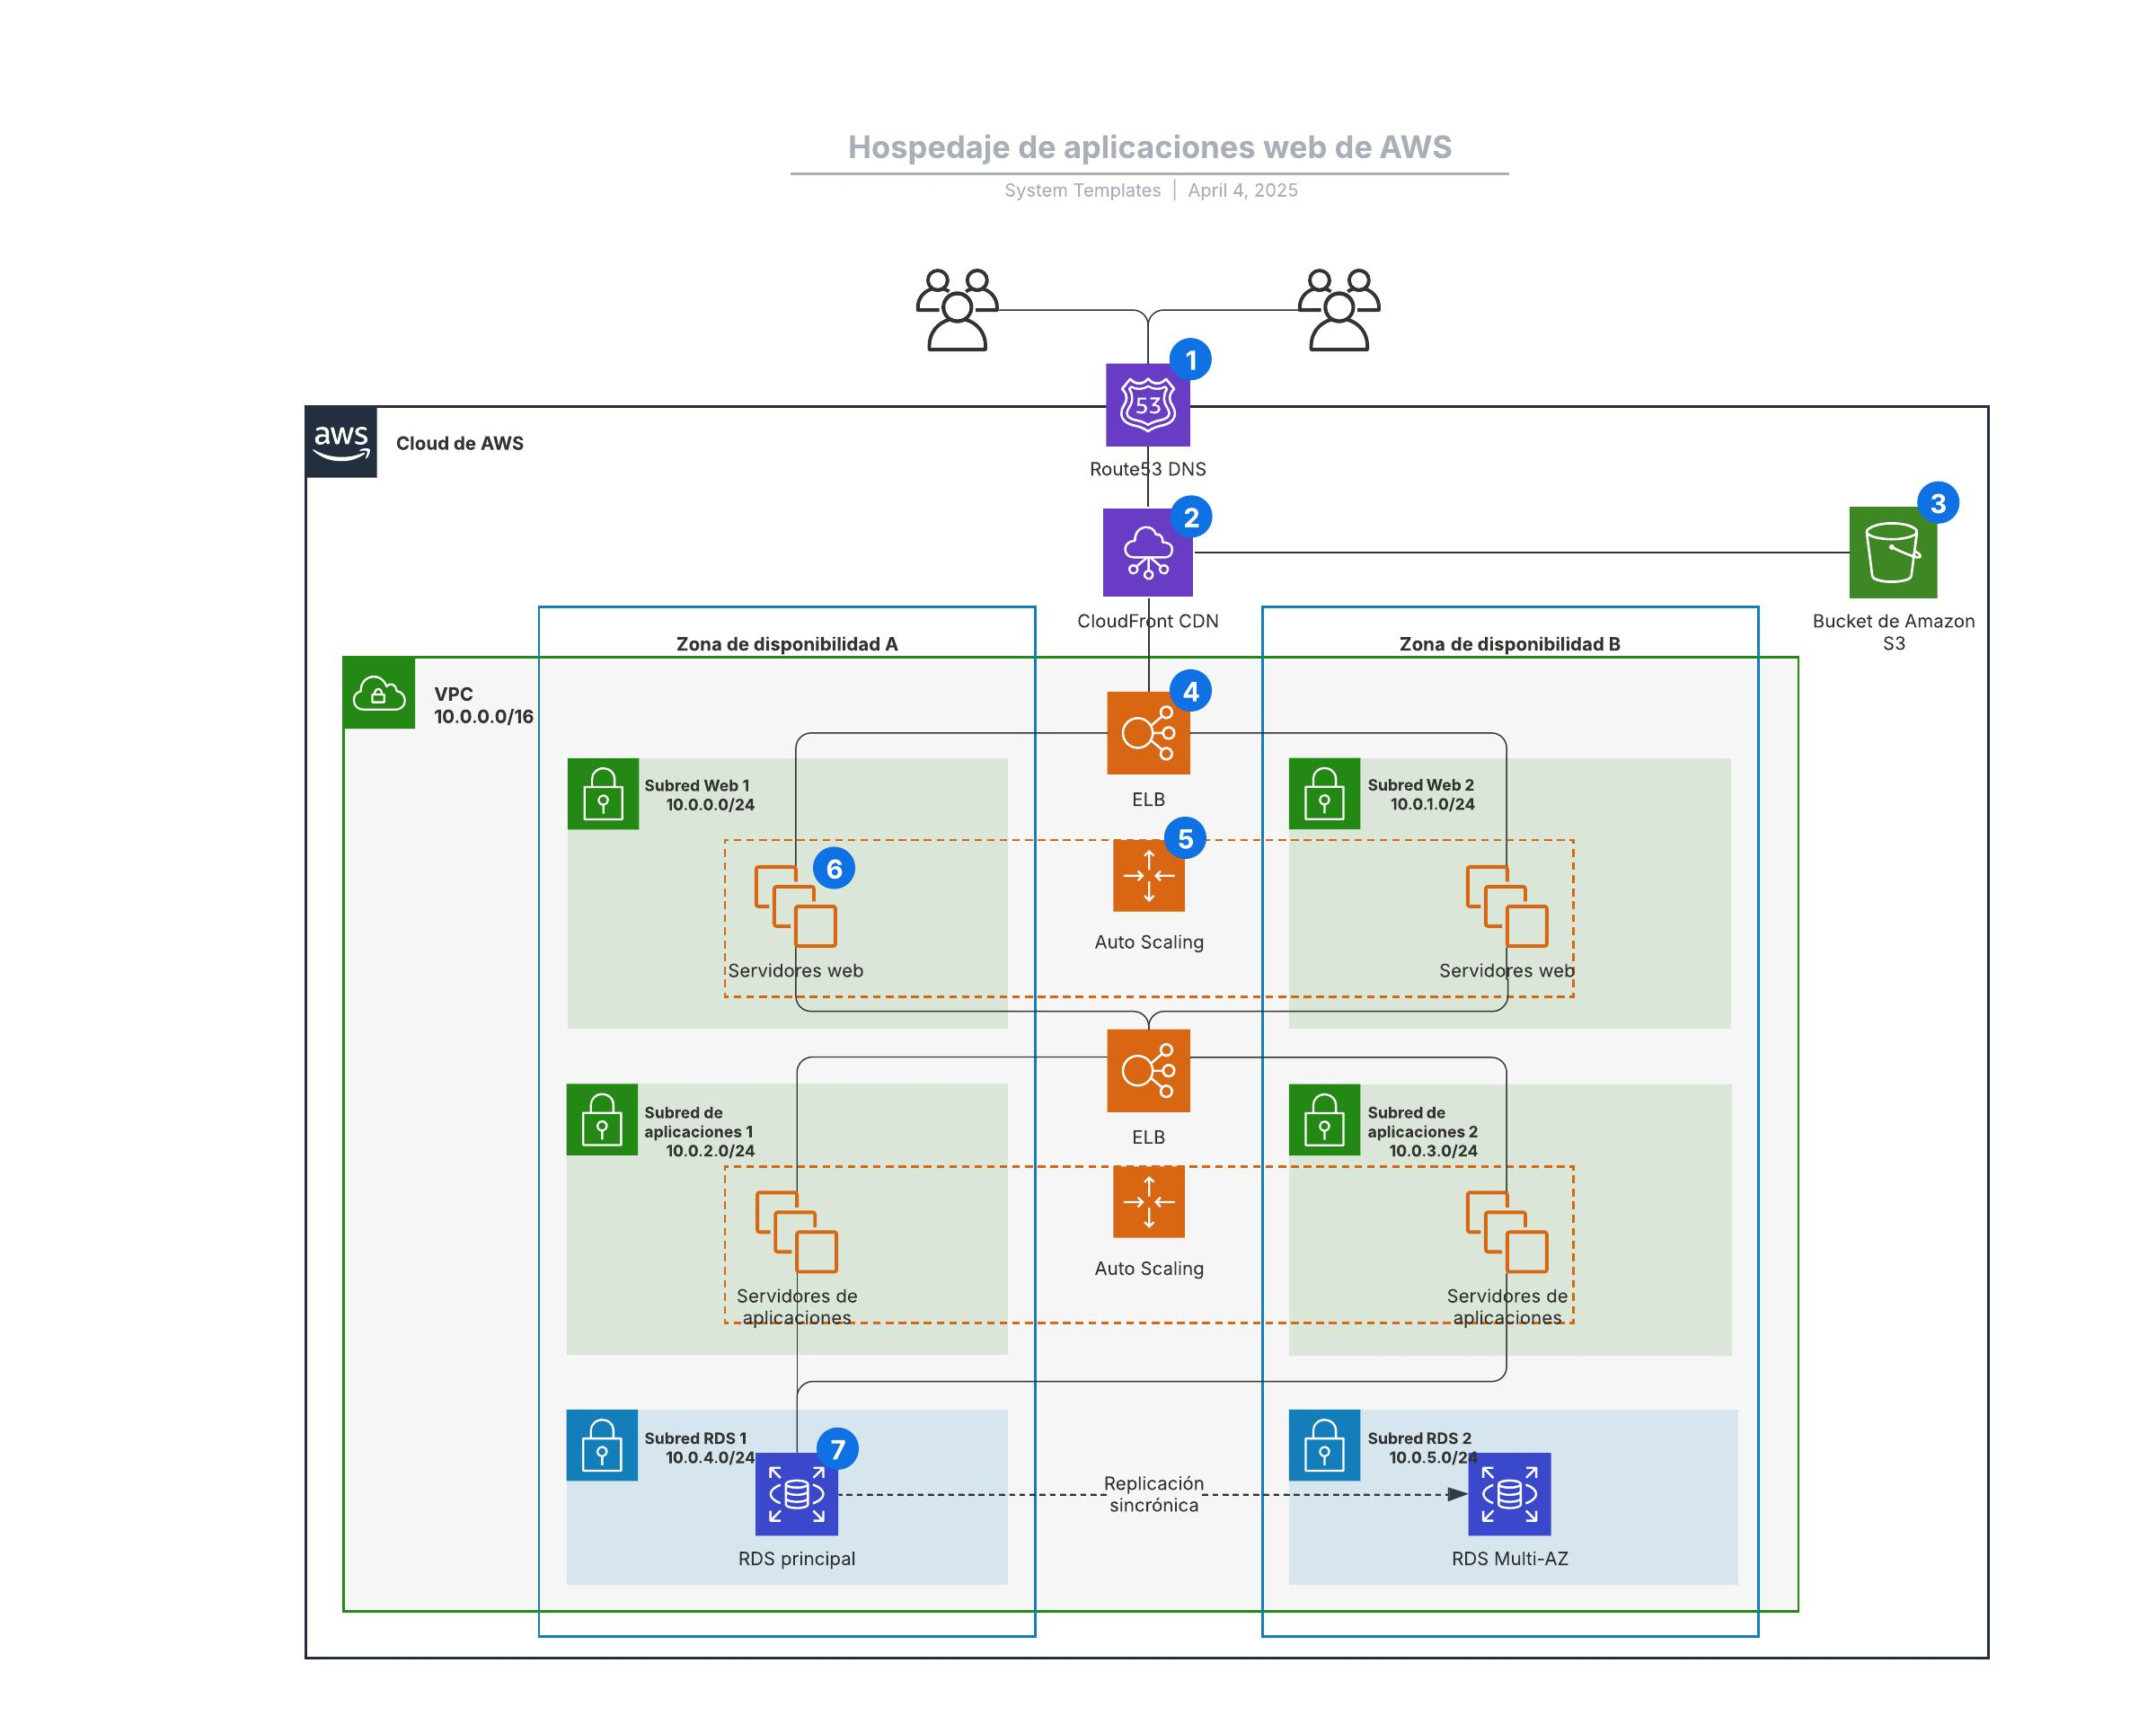Backend: (739, 846, 849, 966), (1447, 855, 1556, 952), (1456, 1185, 1555, 1279), (750, 1184, 845, 1277), (1123, 844, 1180, 911), (1123, 1177, 1183, 1226)
Database: (1468, 1453, 1553, 1536), (757, 1458, 838, 1531)
Frontend: (1121, 522, 1183, 595)
Load Balancer: (1109, 1035, 1181, 1108), (1114, 699, 1185, 768)
Networking: (1107, 375, 1185, 441)
Storage: (1859, 513, 1935, 589)
